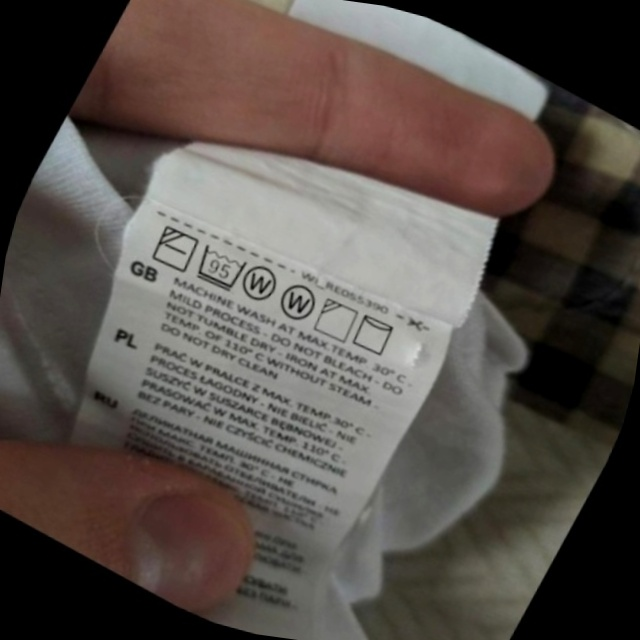95C: (184, 233, 258, 302)
dry_flat_in_shade: (142, 214, 209, 283)
line_dry: (342, 303, 407, 367)
shade_dry: (304, 288, 368, 353)
wet_clean: (267, 271, 329, 335), (231, 251, 292, 315)
